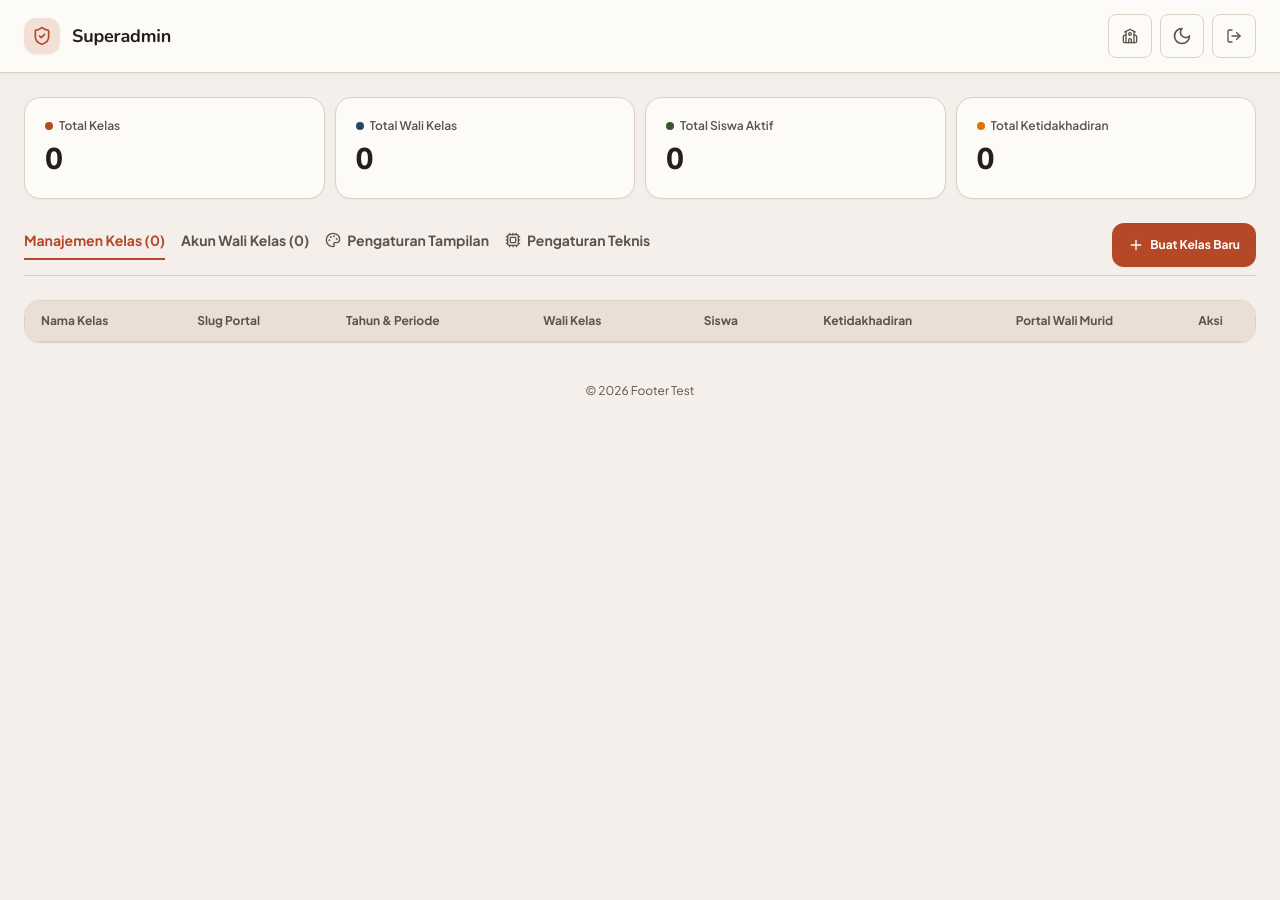
Scenario: Redis Cache Server UI in Database Subtab › should retain active connected status when initialized with redisEnabled = true
The image size is (1280, 900).
Click the button "Pengaturan Teknis".
click(578, 245)  # box [505,230,650,260]
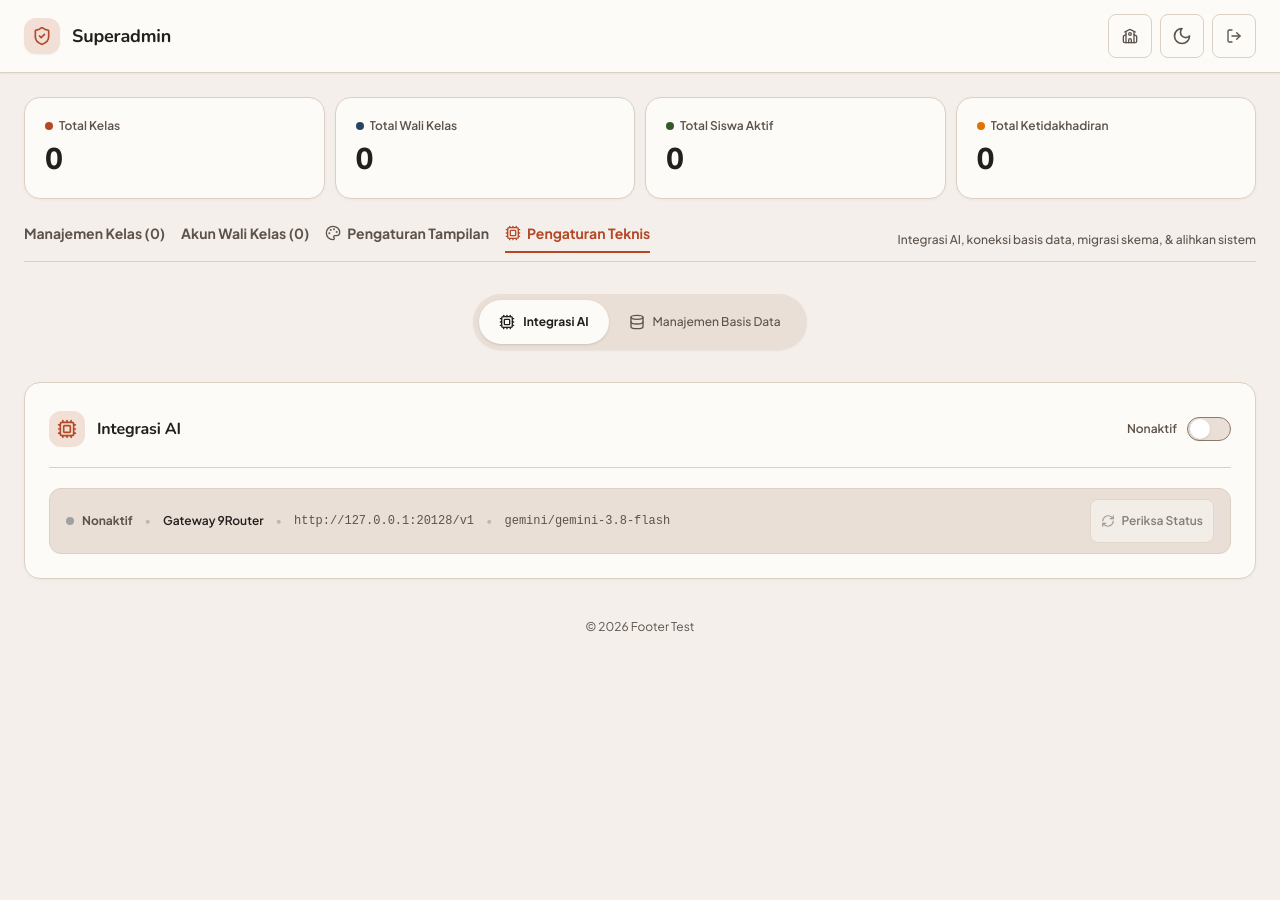
Click the tab "Manajemen Basis Data".
click(705, 322)  # box [608,300,801,344]
(page scrolled)
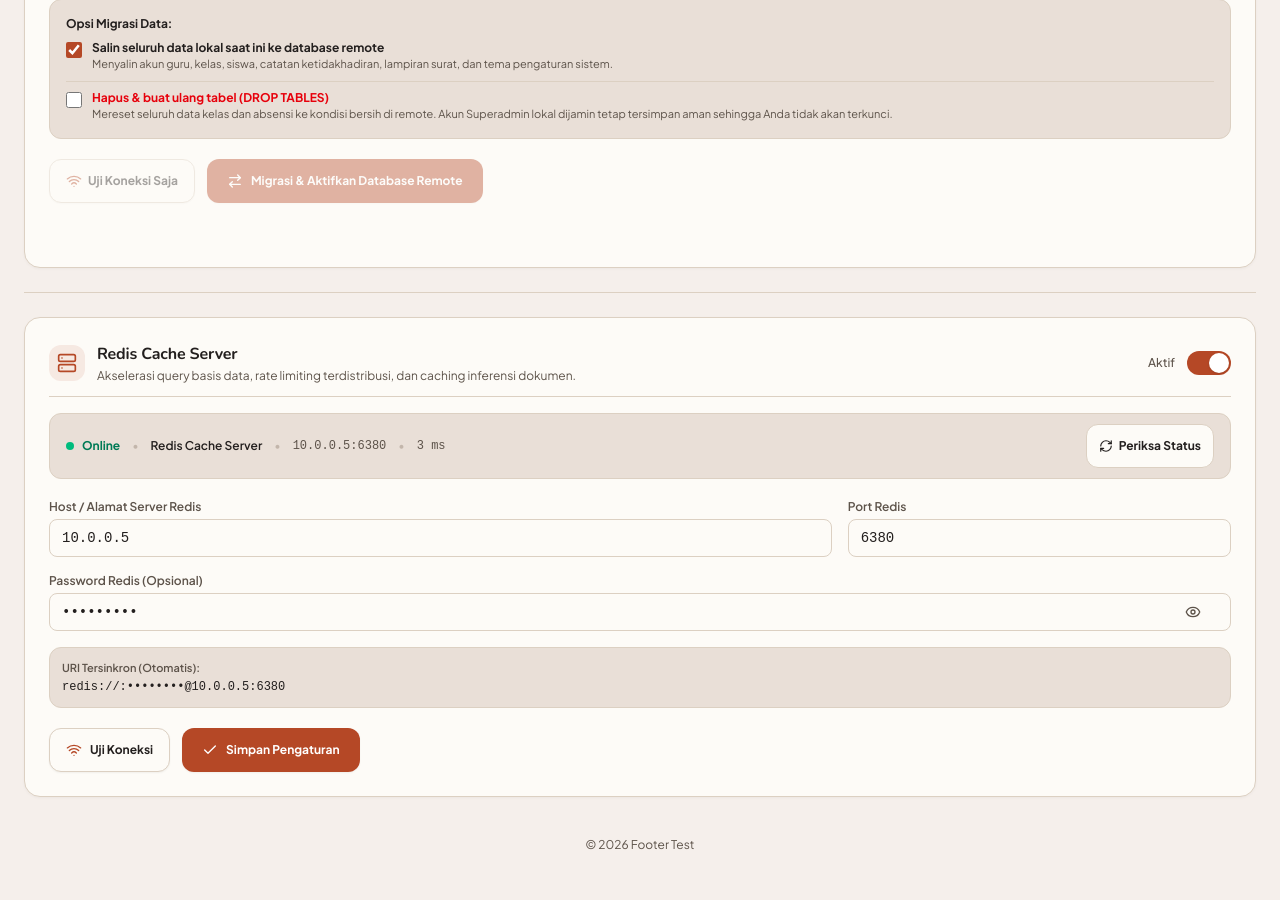
Expected: the field labelled "Host / Alamat Server Redis" holds "10.0.0.5", [49,519,832,557]
Expected: the field labelled "Port Redis" holds "6380", [848,519,1231,557]
Expected: the password field labelled "Password Redis (Opsional)" holds "secret123", [49,593,1231,631]
